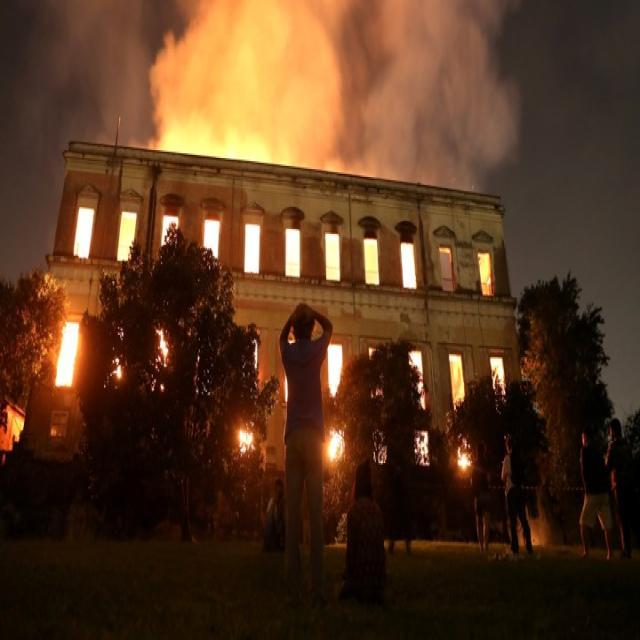Fire: (46, 193, 507, 432)
Smoke: (139, 0, 518, 158)
